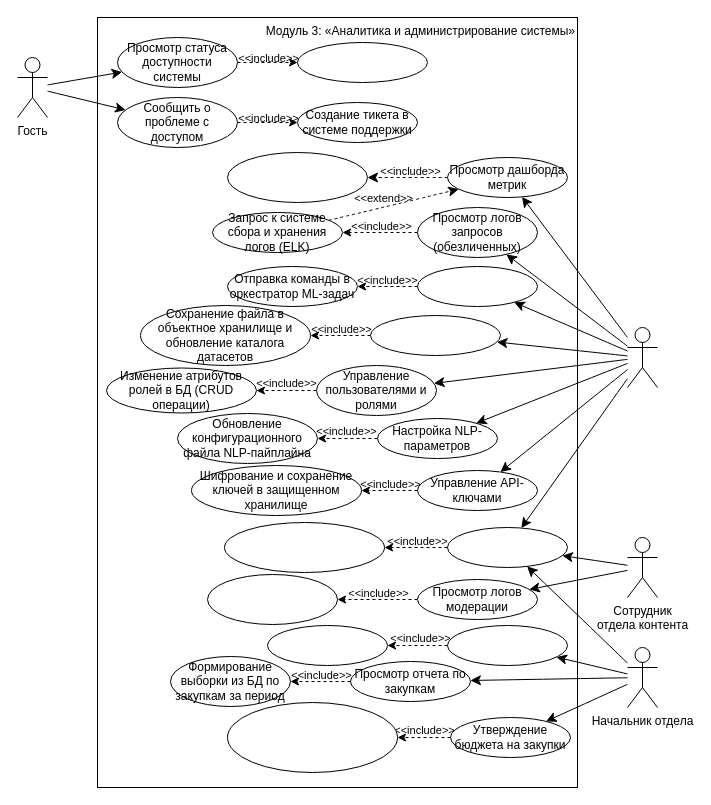
Image size: 711x805. Some labels were removed from this diagram. Here are the shapes that lost their labels. From the top down, the centre of each, then its label:
At (362,62): "Запрос к системе мониторинга сервисов".
At (297,177): "Агрегация данных из логов и БД в реальном времени".
At (477,286): "Запуск дообучения нейросети".
At (435,335): "Загрузка/управление датасетами".
At (642,357): "Администратор нейросети".
At (304,547): "Сбор метрик с каждого микросервиса и усреднение показателей".
At (507,547): "Мониторинг времени ответа".
At (272,599): "Выборка действий модерации из логов аудита".
At (327,645): "Агрегация данных из логов событий".
At (507,645): "Просмотр отчета по активности".
At (312,737): "Установка флага утверждения в заявке на закупку и уведомление контент-менеджера".
